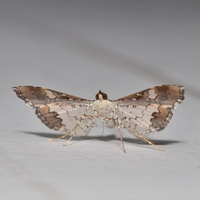insect: (13, 85, 184, 151)
